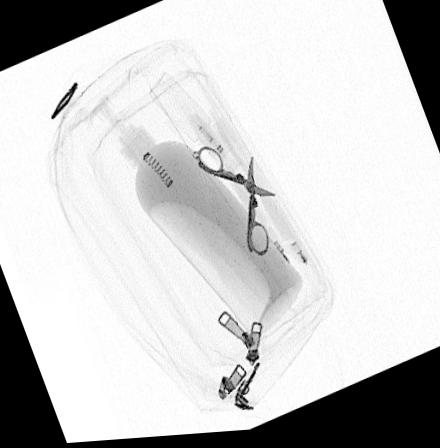Scissors: (191, 147, 277, 260)
